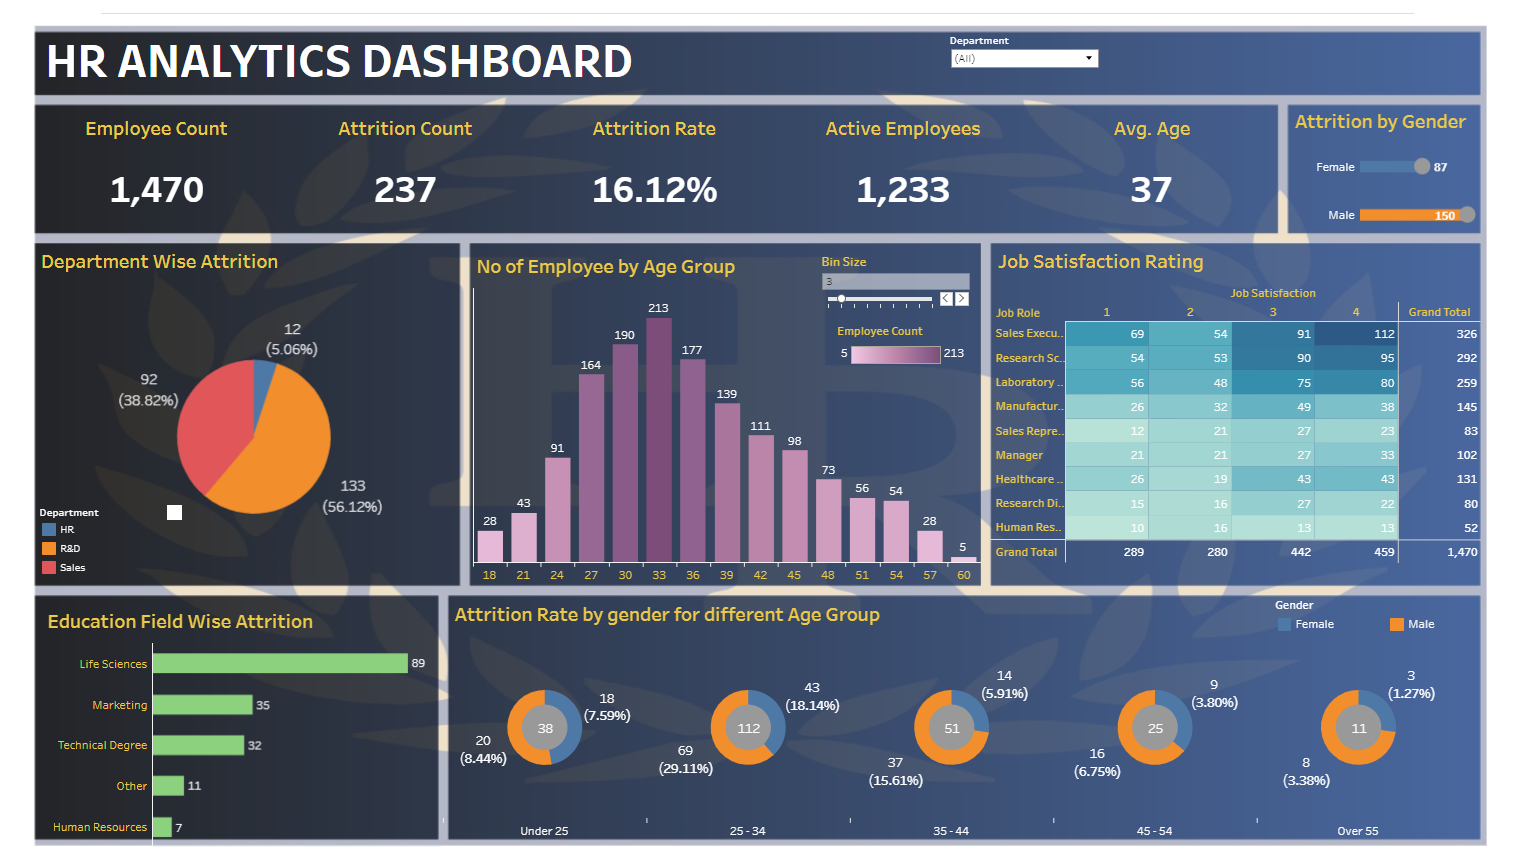

This screenshot's page, from the dashboard's own definition file:
{"tool":"tableau","page":{"name":"HR Analytics Dashboard","canvas":[1580,900],"ordinal":0},"visuals":[{"type":"image","param":"Image/HR background.pptx.png","box":[8,8,1564,884]},{"type":"text","box":[30,12,838,72]},{"type":"filter","title":"Department Wise Attrition","param":"[federated.1kjin0h1x3xz5t15pxt811sj9wi7].[none:Department:nk]","box":[995,20,160,98]},{"type":"worksheet","title":"KPI","mark":"Automatic","box":[16,94,1327,141]},{"type":"worksheet","title":"Attrition by Gender","mark":"Automatic","rows":["Gender"],"cols":["Calculation_109212328799293488","Calculation_109212328799293488"],"box":[1352,94,209,145]},{"type":"worksheet","title":"Department Wise Attrition","mark":"Pie","box":[17,244,470,370]},{"type":"worksheet","title":"Job Satisfaction Rating","mark":"Square","rows":["Job Role"],"cols":["Job Satisfaction"],"box":[1038,244,524,342]},{"type":"worksheet","title":"No of Employee by Age Group","mark":"Automatic","rows":["Employee Count"],"cols":["Age (bin)"],"box":[486,249,542,358]},{"type":"parameter","param":"[Parameters].[Parameter 1]","box":[858,255,160,68]},{"type":"legend","title":"No of Employee by Age Group","param":"[federated.1kjin0h1x3xz5t15pxt811sj9wi7].[sum:Employee Count:qk]","box":[875,330,140,80]},{"type":"legend","title":"Department Wise Attrition","param":"[federated.1kjin0h1x3xz5t15pxt811sj9wi7].[none:Department:nk]","box":[24,524,152,76]},{"type":"worksheet","title":"Attrition Rate by gender for different Age Group","mark":"Pie","rows":["Calculation_1989113329548537899","Calculation_1989113329548537899"],"cols":["CF_age band"],"box":[454,620,1085,260]},{"type":"worksheet","title":"Education Field Wise Attrition","mark":"Automatic","rows":["Education Field"],"cols":["Calculation_109212328799293488"],"box":[24,628,429,260]}]}

Visuals, with their boxes in screenshot pixels (x1, y1, x2, y2), scaled from the page's 1580x900 canvas onto the 1533x858 screenshot:
image: region(8, 8, 1525, 850)
text: region(29, 11, 842, 80)
"Department Wise Attrition" filter: region(965, 19, 1121, 112)
"KPI" worksheet: region(16, 90, 1303, 224)
"Attrition by Gender" worksheet: region(1312, 90, 1515, 228)
"Department Wise Attrition" worksheet (Pie marks): region(16, 233, 473, 585)
"Job Satisfaction Rating" worksheet (Square marks): region(1007, 233, 1516, 559)
"No of Employee by Age Group" worksheet: region(472, 237, 997, 579)
parameter: region(832, 243, 988, 308)
"No of Employee by Age Group" legend: region(849, 315, 985, 391)
"Department Wise Attrition" legend: region(23, 500, 171, 572)
"Attrition Rate by gender for different Age Group" worksheet (Pie marks): region(440, 591, 1493, 839)
"Education Field Wise Attrition" worksheet: region(23, 599, 440, 847)
